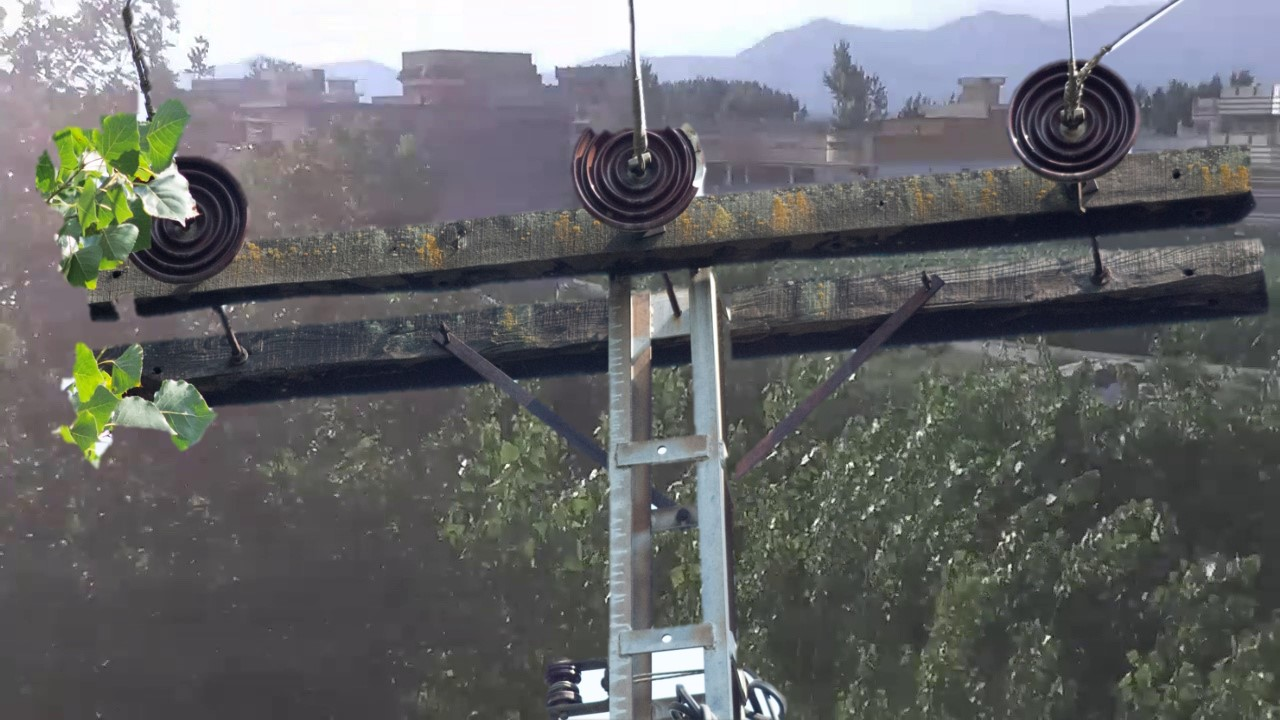defect_disc: (569, 119, 711, 238)
insulator_disc: (1004, 53, 1143, 188), (163, 153, 255, 284)
